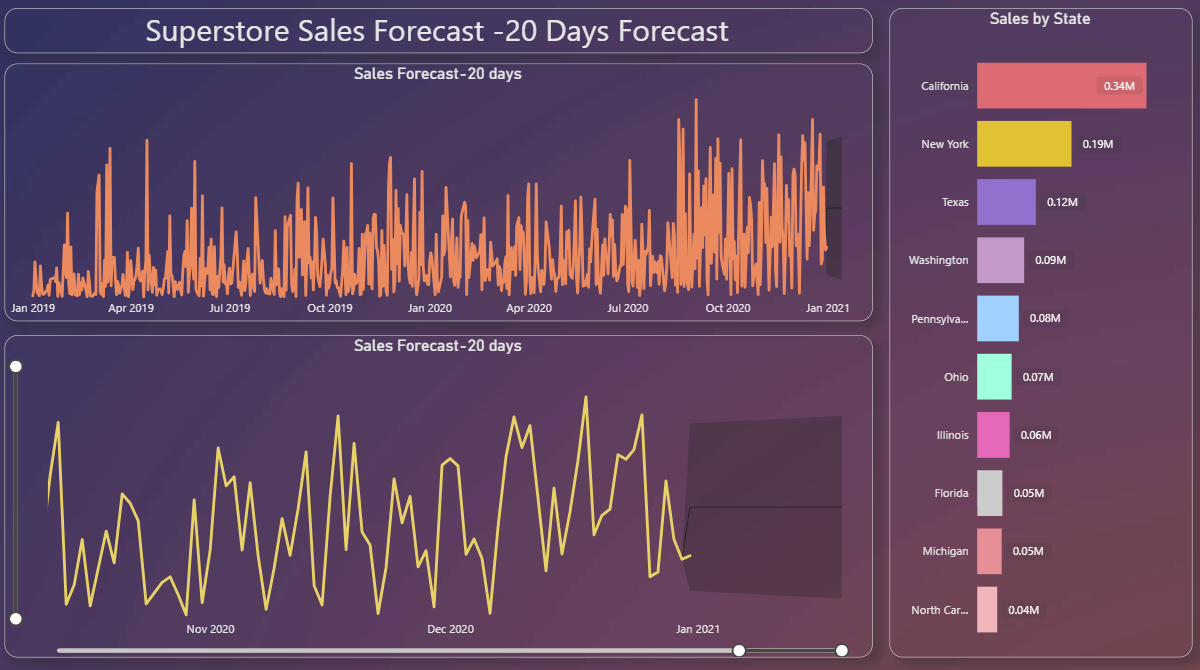

This screenshot's page, from the dashboard's own definition file:
{"tool":"powerbi","page":{"name":"Page 2","canvas":[1280,720],"ordinal":1},"visuals":[{"type":"lineChart","title":"Sales Forecast-20 days","fields":{"Y":["Sum(SuperStore_Sales_Dataset.Sales)"],"Category":["SuperStore_Sales_Dataset.Order Date"]},"box":[8,359.5,921,342],"z":0},{"type":"lineChart","title":"Sales Forecast-20 days","fields":{"Y":["Sum(SuperStore_Sales_Dataset.Sales)"],"Category":["SuperStore_Sales_Dataset.Order Date"]},"box":[8,71.6,921,273.6],"z":1000},{"type":"textbox","box":[8,12.7,921,47.7],"z":2000},{"type":"clusteredBarChart","title":"Sales by State","fields":{"Category":["SuperStore_Sales_Dataset.State"],"Y":["Sum(SuperStore_Sales_Dataset.Sales)"]},"box":[946.4,12.7,321.3,688.7],"z":3000}]}

Visuals, with their boxes in screenshot pixels (x1, y1, x2, y2), scaled from the page's 1280x720 canvas onto the 1200x670 screenshot:
"Sales Forecast-20 days" lineChart: l=8, t=335, r=871, b=653
"Sales Forecast-20 days" lineChart: l=8, t=67, r=871, b=321
textbox: l=8, t=12, r=871, b=56
"Sales by State" clusteredBarChart: l=887, t=12, r=1188, b=653
